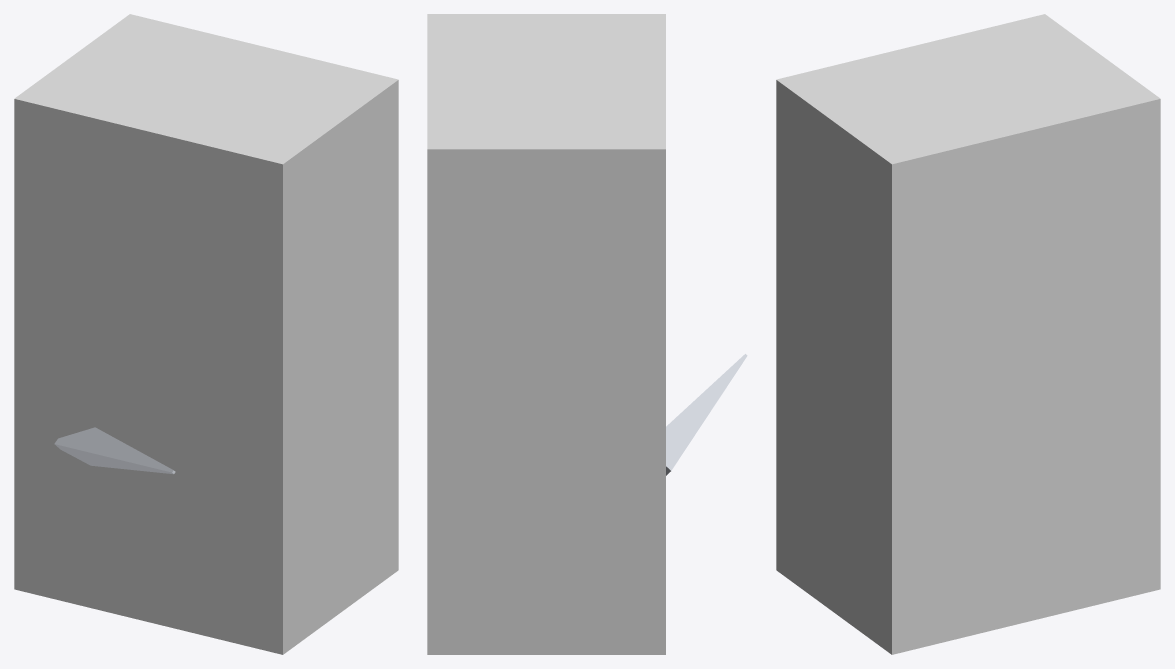
Rendered from desert_nomad_bandit.fbx.
The picture shows the model from 3 angles, left to right: view 1: azimuth 30°, elevation 25°; view 2: azimuth 150°, elevation 25°; view 3: azimuth 270°, elevation 25°; orthographic projection. The views are drawn at different scales.
Parts seen in each view (by area): view 1: Root__0.05_2.75_-0.61__2.35_5.50_3.15, ArmR__Torso__0.84_3.67_0.00; view 2: Root__0.05_2.75_-0.61__2.35_5.50_3.15, ArmR__Torso__0.84_3.67_0.00; view 3: Root__0.05_2.75_-0.61__2.35_5.50_3.15.
Part boxes in pixels (x1=…): Root__0.05_2.75_-0.61__2.35_5.50_3.15: x1=14, y1=14, x2=398, y2=654; ArmR__Torso__0.84_3.67_0.00: x1=54, y1=427, x2=175, y2=474; Root__0.05_2.75_-0.61__2.35_5.50_3.15: x1=427, y1=14, x2=665, y2=654; ArmR__Torso__0.84_3.67_0.00: x1=666, y1=354, x2=747, y2=475; Root__0.05_2.75_-0.61__2.35_5.50_3.15: x1=776, y1=14, x2=1160, y2=654.
Bounding box in the file's own units: 101 × 155 × 109.
1 material, 1 textured.
